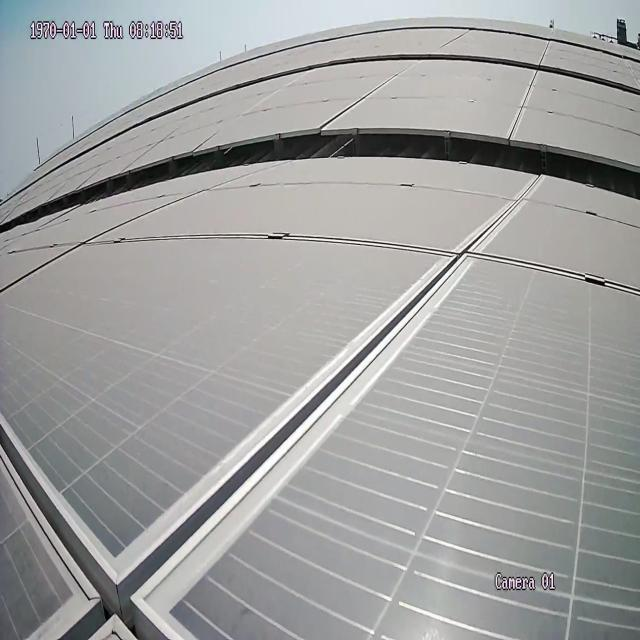interior panel: (1, 178, 538, 639), (326, 73, 404, 118), (507, 78, 539, 133)
outher panel: (0, 128, 640, 234)
